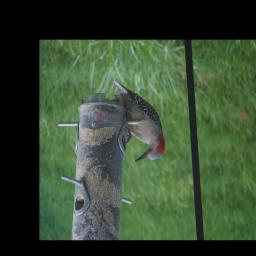Woodpecker: (112, 79, 165, 162)
